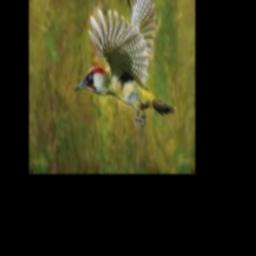Woodpecker: (74, 0, 177, 127)
